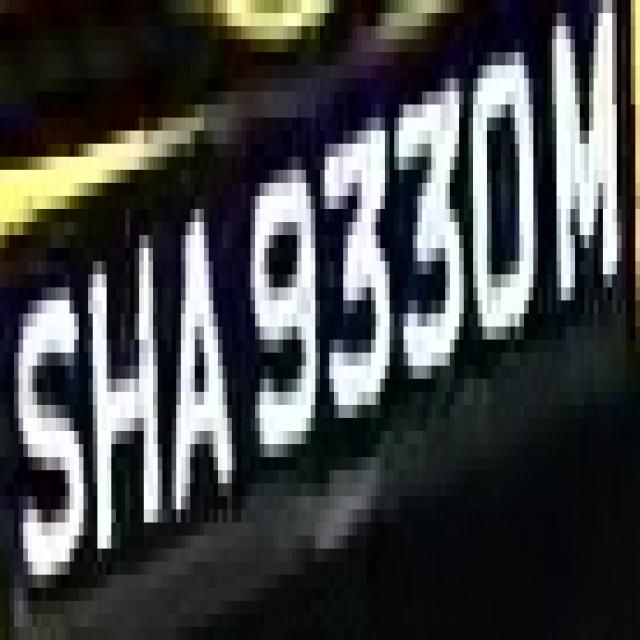0: (459, 39, 538, 379)
3: (306, 105, 399, 457), (385, 65, 468, 405)
9: (237, 118, 320, 457)
A: (148, 183, 228, 562)
H: (83, 183, 167, 588)
M: (538, 13, 626, 340)
S: (0, 248, 83, 627)
